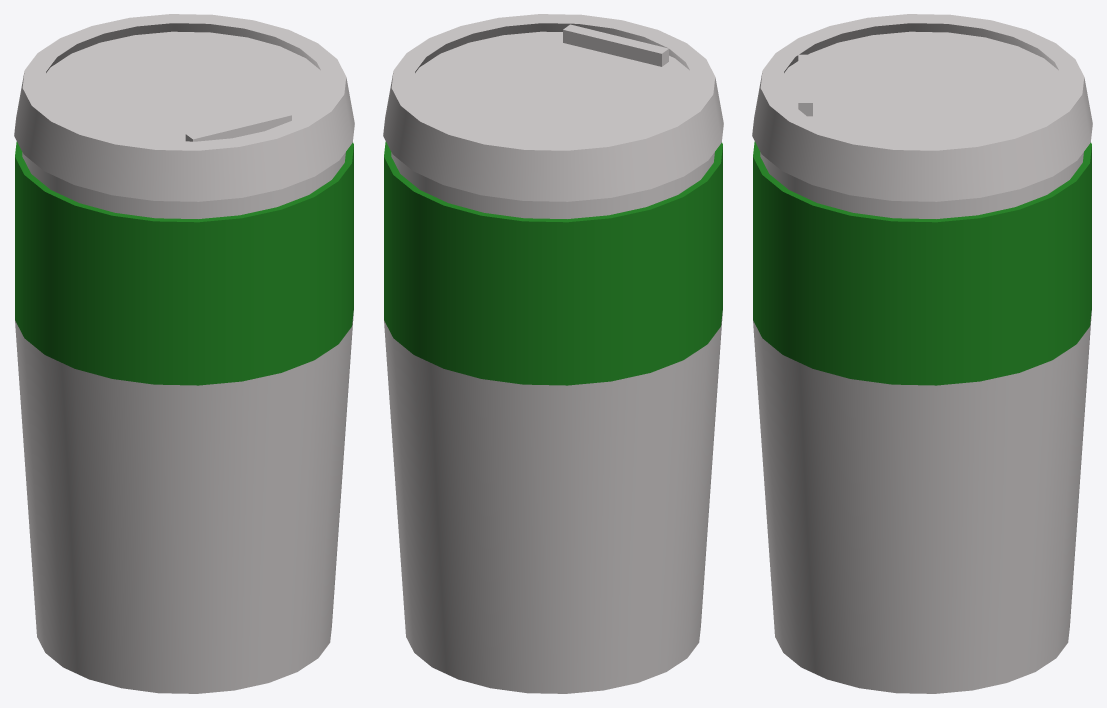
The model's file is coffee.fbx.
3 views of the same model, side by side, from view 1: azimuth 30°, elevation 25°; view 2: azimuth 150°, elevation 25°; view 3: azimuth 270°, elevation 25° (orthographic).
Parts seen in each view (by area): view 1: coffee_cup1; view 2: coffee_cup1; view 3: coffee_cup1.
Part boxes in pixels (left/top/right/bottom): coffee_cup1: left=14, top=14, right=354, bottom=693; coffee_cup1: left=383, top=14, right=723, bottom=693; coffee_cup1: left=752, top=14, right=1092, bottom=693.
Bounding box in the file's own units: 13.24 × 23.61 × 13.24.
